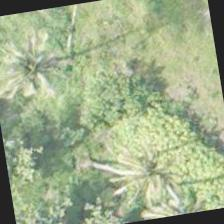Kelapa_Sawit: (102, 124, 205, 224), (0, 19, 87, 123)
